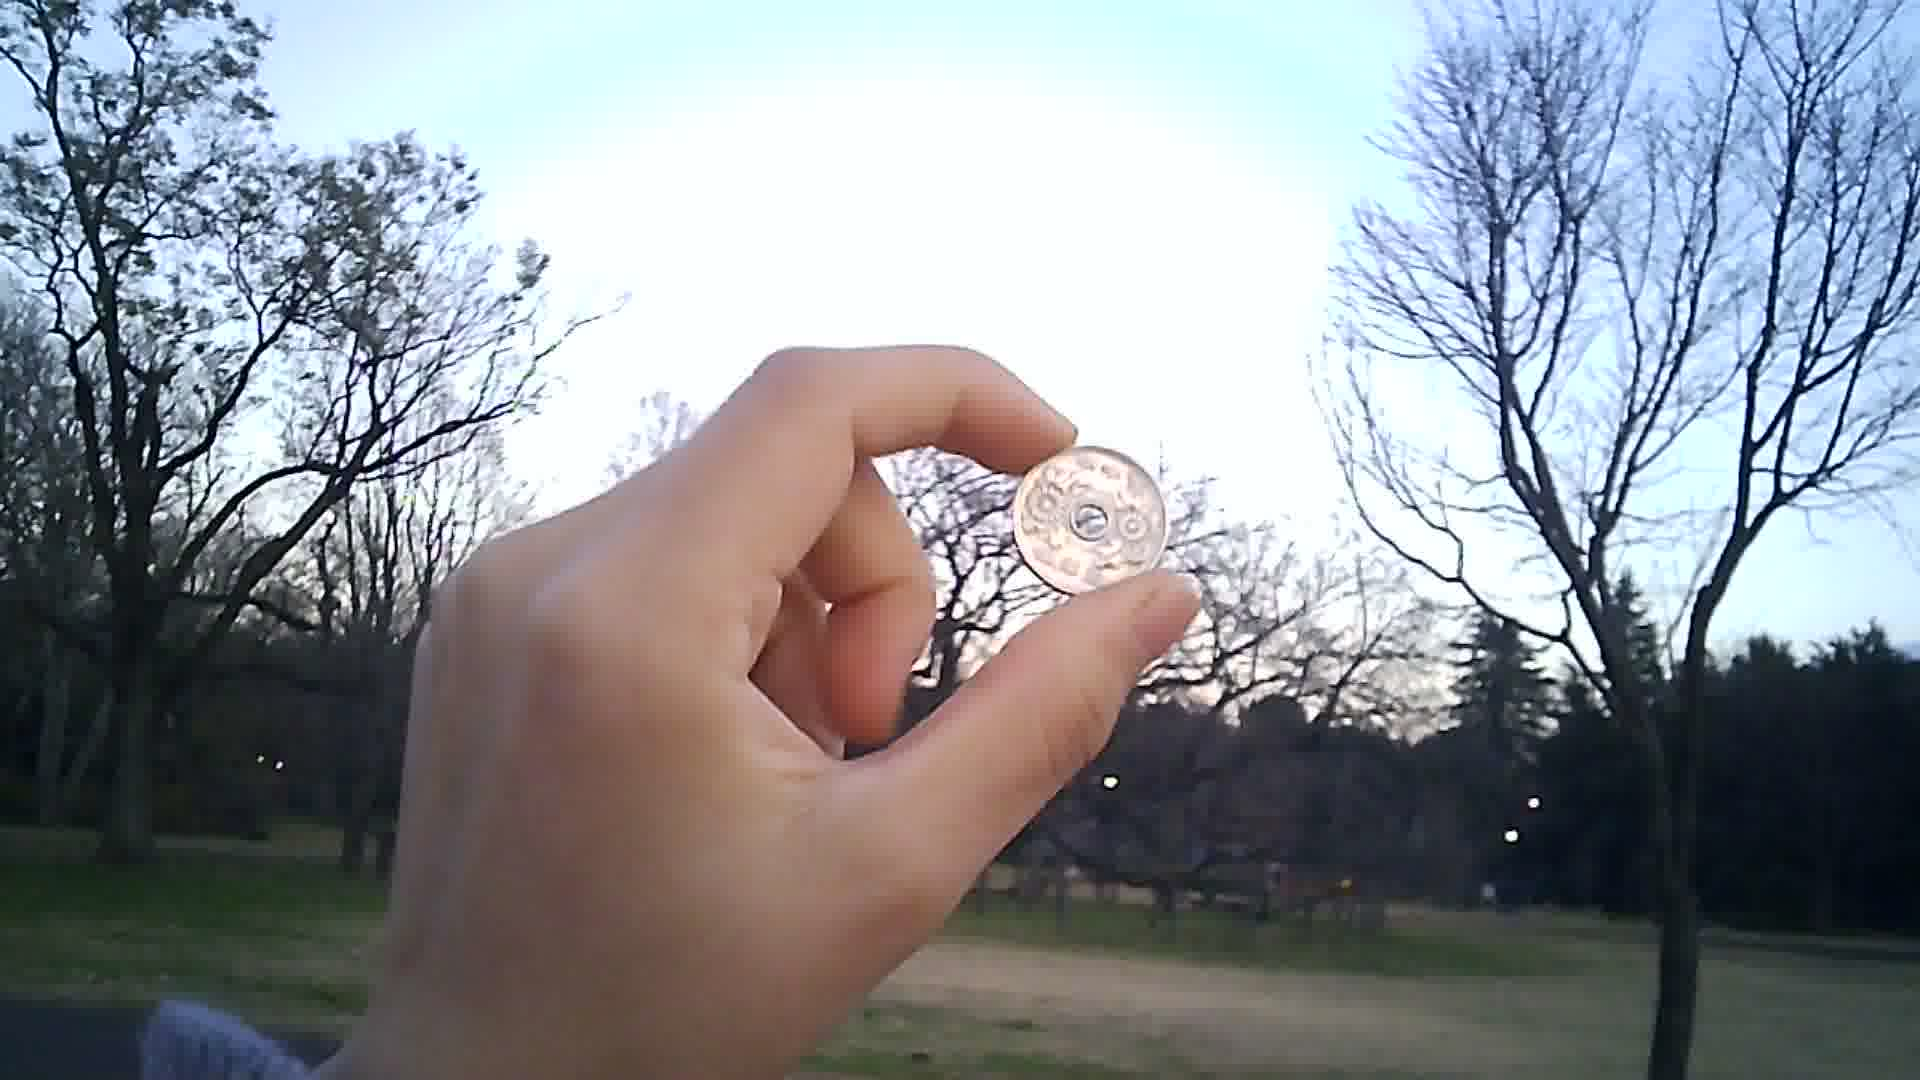50 Yen: (1005, 434, 1168, 604)
